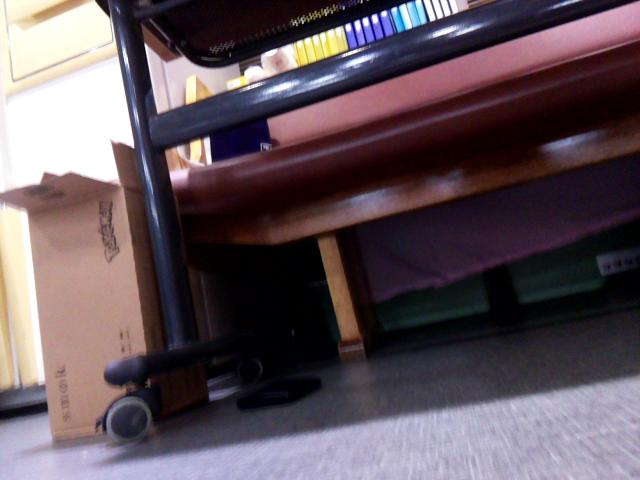wallet: (231, 372, 325, 413)
